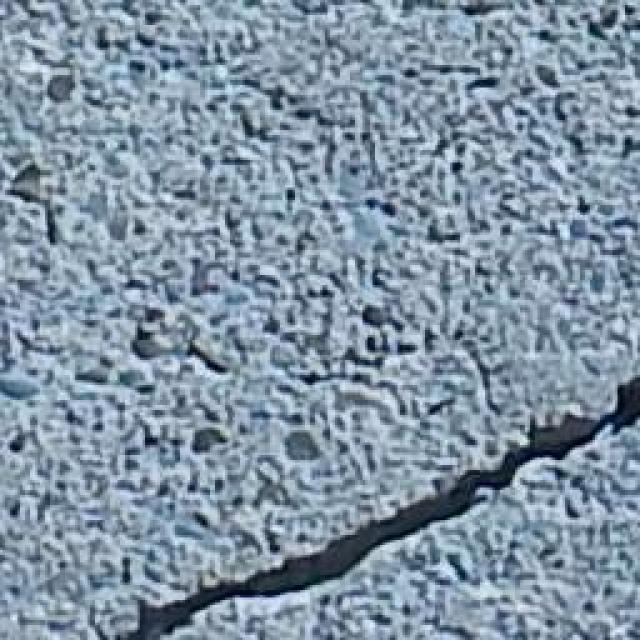concrete-crack: (115, 379, 640, 640)
